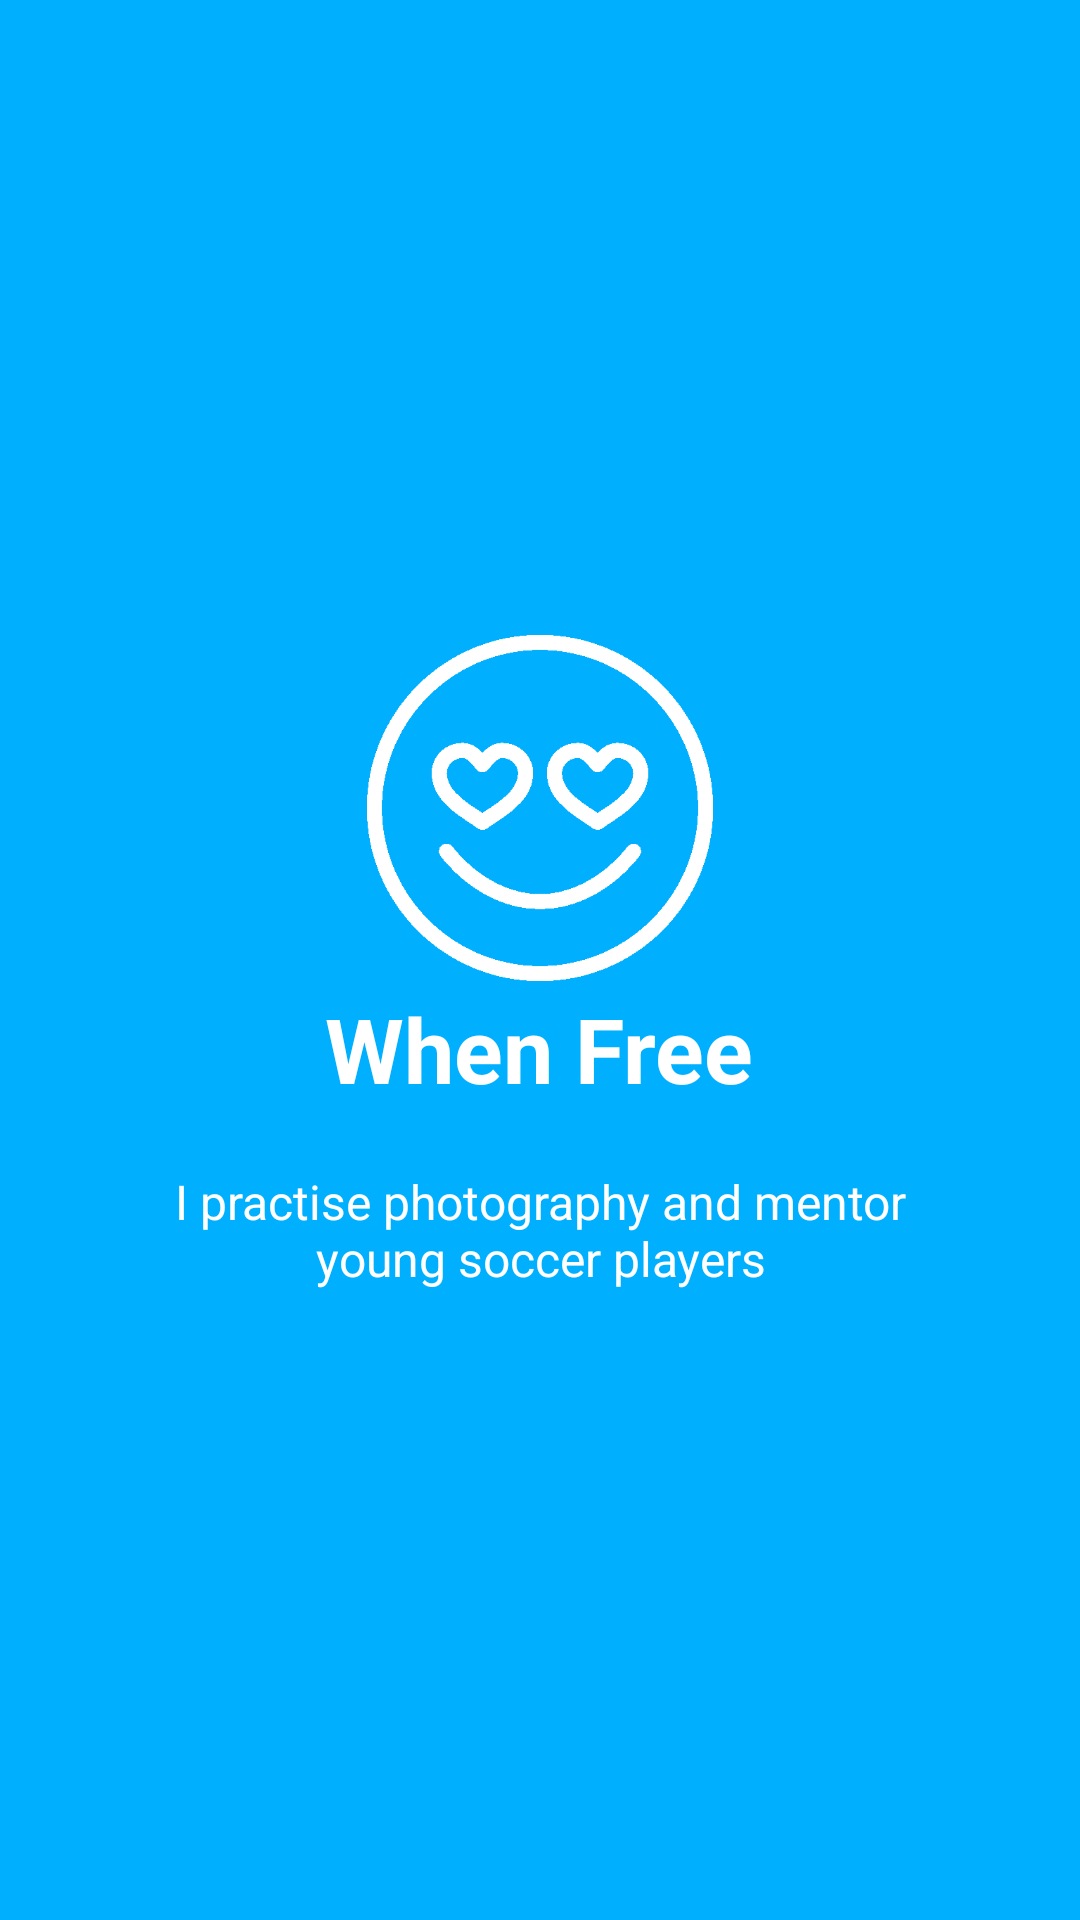

Named icons in this screenshot (1080×1920) and their bounding boxes, BBox(x1, y1, x2, y2):
love: BBox(367, 635, 713, 981)
